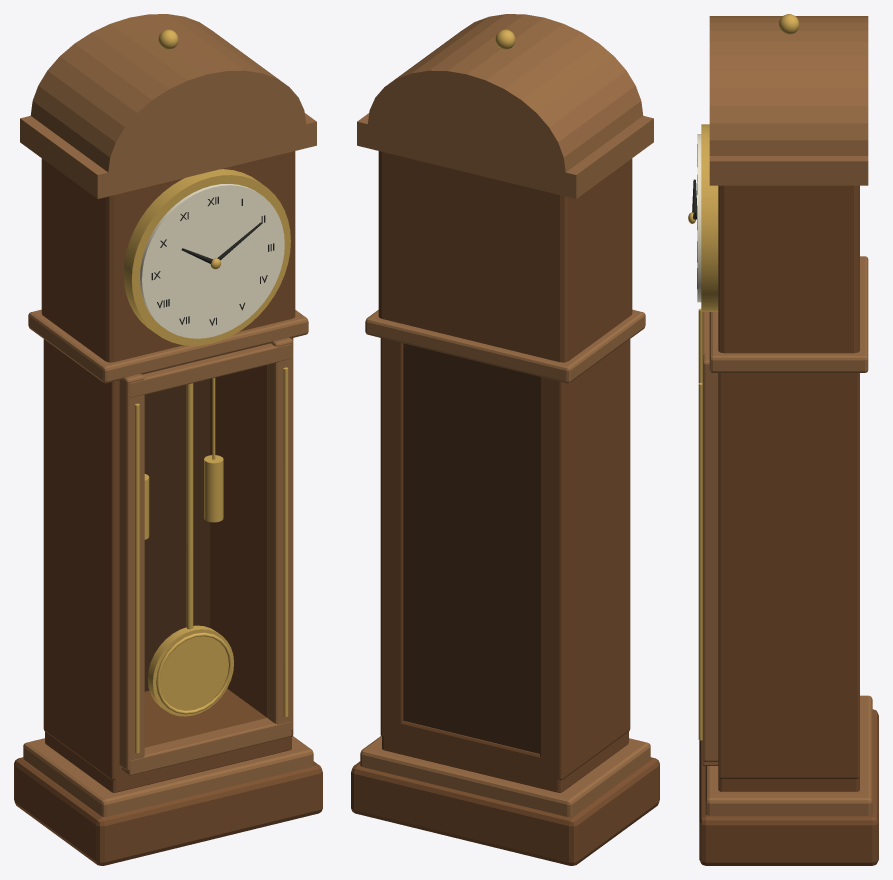
Rendered from antique_clock.glb.
The picture shows the model from 3 angles, left to right: view 1: azimuth 30°, elevation 25°; view 2: azimuth 150°, elevation 25°; view 3: azimuth 270°, elevation 25°; orthographic projection. The views are drawn at different scales.
Parts seen in each view (by area): view 1: Arched wooden clock crown, Clock cabinet side, Upper clock cabinet, Clock cabinet side.001, Cream clock face, Clock bottom plinth, Recessed cabinet back, Front window stile.001, Front window stile, Clock base moulding, Clock lower cabinet floor, Brass dial mounting ring (+9 smaller); view 2: Recessed cabinet back, Upper clock cabinet, Arched wooden clock crown, Clock cabinet side, Clock bottom plinth, Clock cabinet side.001, Clock base moulding, Clock lower cabinet floor, Upper cabinet lower moulding; view 3: Clock cabinet side.001, Arched wooden clock crown, Upper clock cabinet, Clock bottom plinth, Front window stile.001, Clock base moulding, Upper cabinet lower moulding, Brass dial mounting ring, Clock lower cabinet floor, Fine brass front column.001, Cream clock face.
Boxes of the visible parts, bbox=[...] form: Arched wooden clock crown: bbox=[20, 14, 316, 198]; Clock cabinet side: bbox=[43, 339, 132, 780]; Upper clock cabinet: bbox=[41, 151, 295, 362]; Clock cabinet side.001: bbox=[210, 317, 293, 736]; Cream clock face: bbox=[140, 184, 284, 338]; Clock bottom plinth: bbox=[14, 757, 322, 865]; Recessed cabinet back: bbox=[144, 379, 209, 691]; Front window stile.001: bbox=[267, 337, 293, 730]; Front window stile: bbox=[119, 374, 144, 770]; Clock base moulding: bbox=[23, 736, 313, 816]; Clock lower cabinet floor: bbox=[45, 688, 291, 792]; Brass dial mounting ring: bbox=[123, 169, 290, 345]; Recessed cabinet back: bbox=[403, 343, 539, 753]; Upper clock cabinet: bbox=[378, 151, 632, 362]; Arched wooden clock crown: bbox=[357, 14, 653, 198]; Clock cabinet side: bbox=[540, 339, 630, 780]; Clock bottom plinth: bbox=[351, 757, 659, 865]; Clock cabinet side.001: bbox=[380, 315, 403, 739]; Clock base moulding: bbox=[360, 736, 650, 816]; Clock lower cabinet floor: bbox=[382, 720, 628, 792]; Upper cabinet lower moulding: bbox=[365, 309, 645, 383]; Clock cabinet side.001: bbox=[718, 373, 859, 778]; Arched wooden clock crown: bbox=[709, 16, 868, 185]; Upper clock cabinet: bbox=[718, 185, 859, 353]; Clock bottom plinth: bbox=[699, 709, 878, 865]; Front window stile.001: bbox=[702, 353, 718, 761]; Clock base moulding: bbox=[705, 695, 872, 815]; Upper cabinet lower moulding: bbox=[709, 256, 868, 372]; Brass dial mounting ring: bbox=[701, 124, 718, 311]; Clock lower cabinet floor: bbox=[718, 777, 859, 791]; Fine brass front column.001: bbox=[698, 382, 702, 740]; Cream clock face: bbox=[697, 134, 701, 302].
Size of the model in its own units: 0.64 by 2.11 by 0.457.
